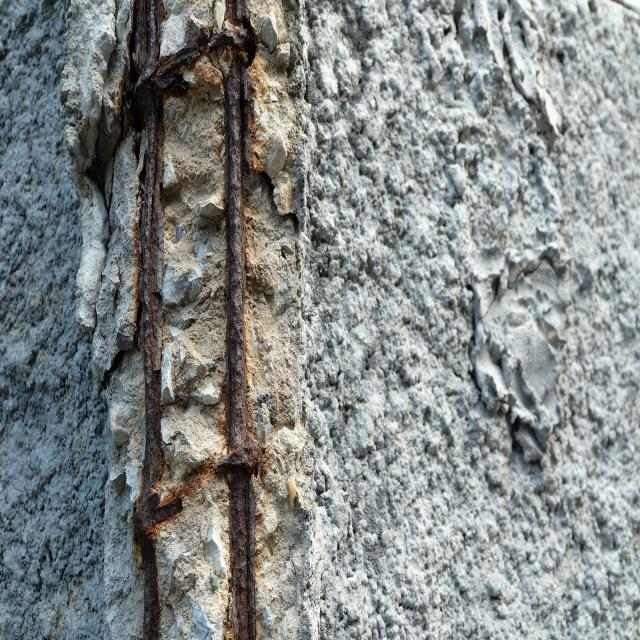Rebar: (62, 0, 305, 640)
